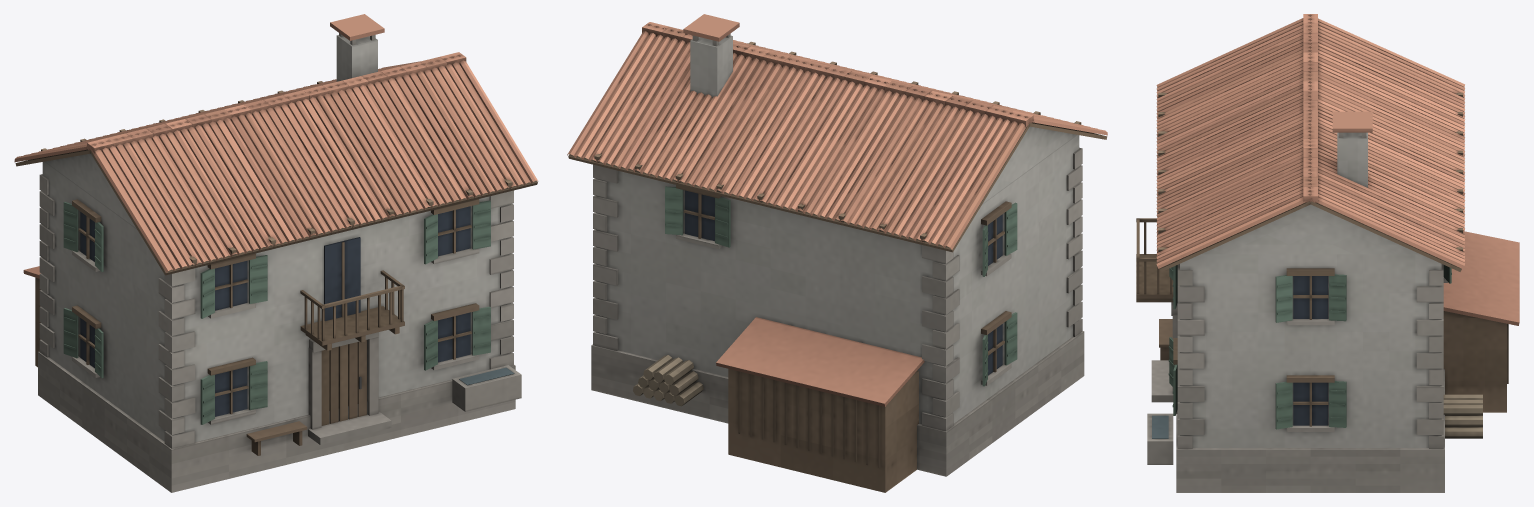
Rendered from plaster-90x54x60-r15-s2.glb.
The picture shows the model from 3 angles, left to right: view 1: azimuth 30°, elevation 25°; view 2: azimuth 150°, elevation 25°; view 3: azimuth 270°, elevation 25°; orthographic projection. The views are drawn at different scales.
Parts seen in each view (by area): view 1: Farmhouse; view 2: Farmhouse; view 3: Farmhouse.
Boxes of the visible parts, bbox=[...] form: Farmhouse: bbox=[14, 14, 538, 492]; Farmhouse: bbox=[567, 14, 1107, 492]; Farmhouse: bbox=[1136, 14, 1519, 492].
Size of the model in its own units: 9.93 by 8.56 by 8.79.
Materials: 1 (1 with a texture image).
